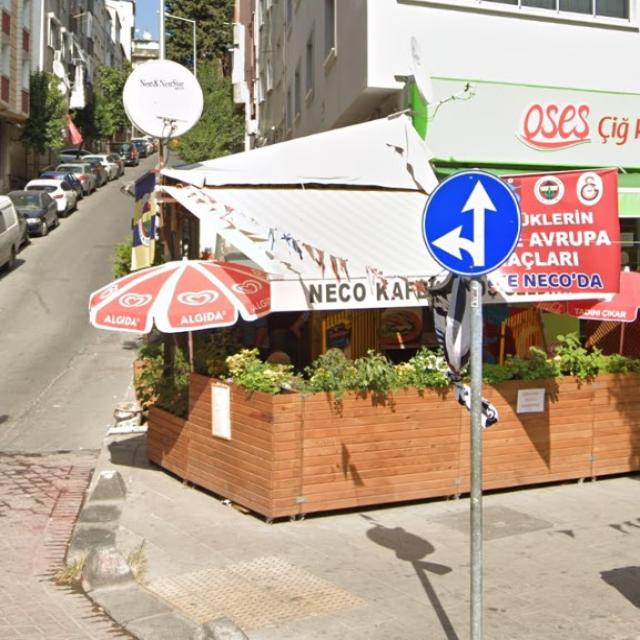ilerisol: (420, 169, 519, 275)
